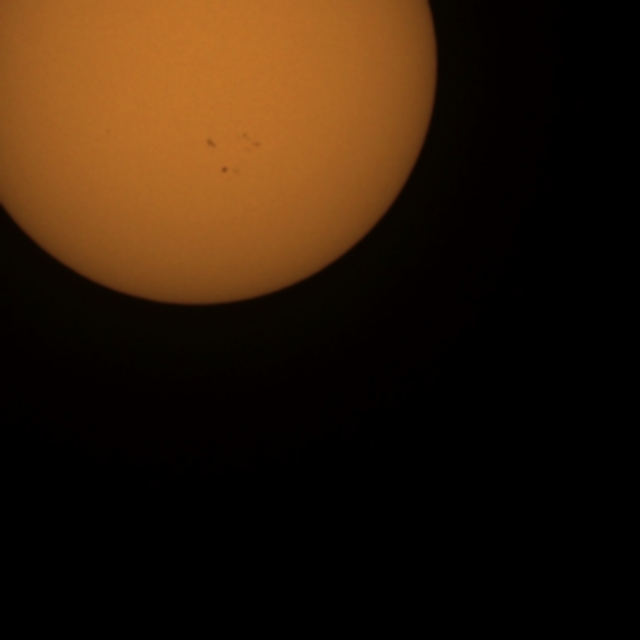sunspot: (240, 130, 262, 153), (220, 164, 241, 177), (204, 136, 218, 150), (219, 165, 229, 175)
